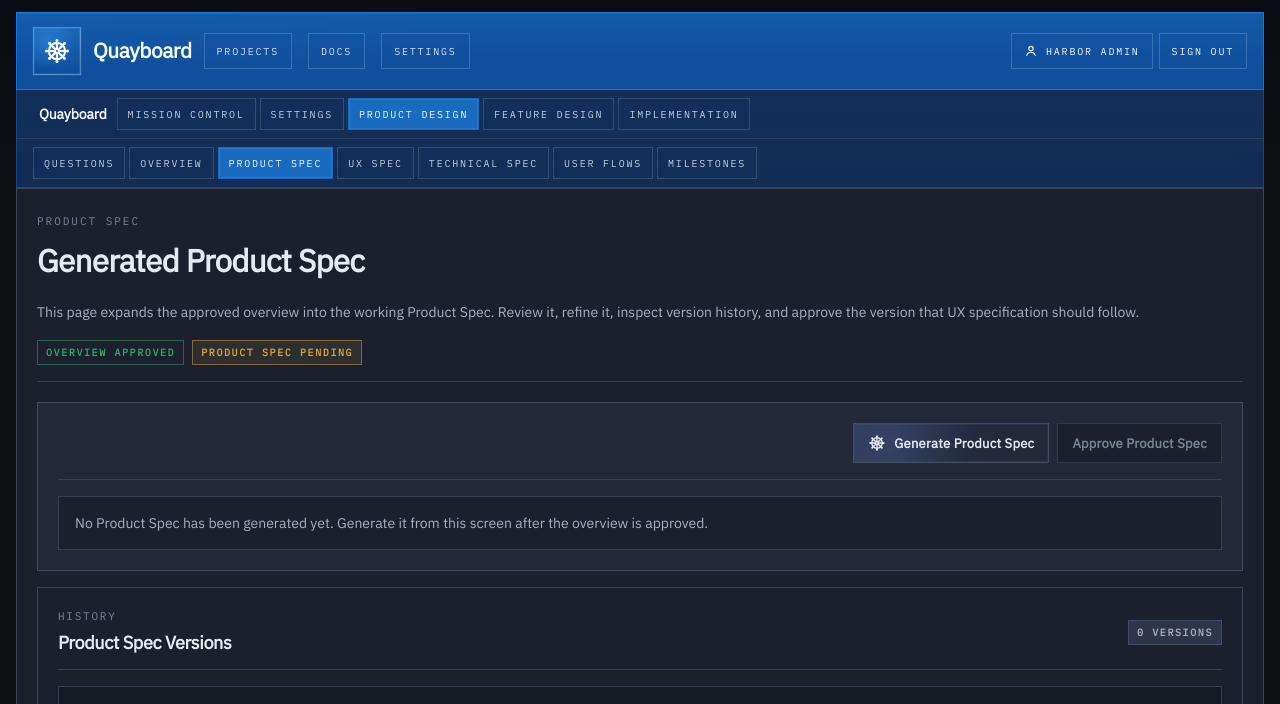
it: workflow pages › refreshes the Product Spec after generation succeeds without a page reload
Click the button "Generate Product Spec": [951, 443] box [853,423,1049,463]
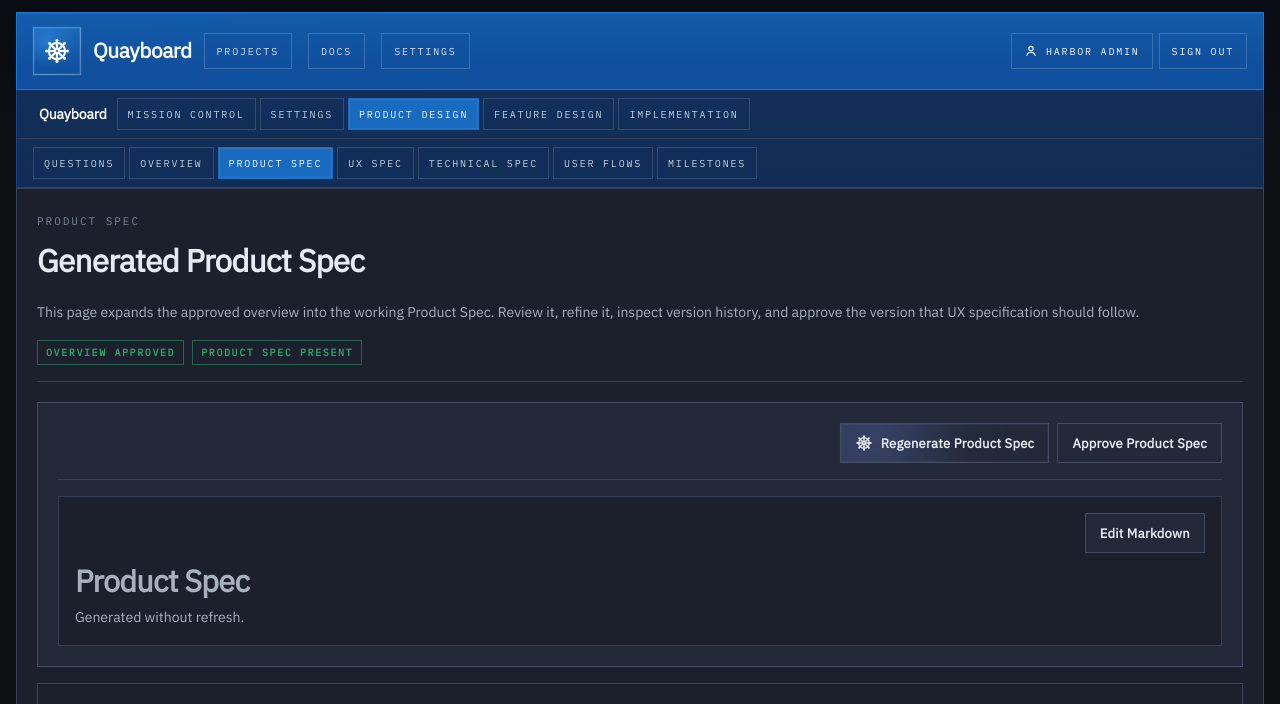
Now the text "Generated without refresh." is shown, box [75,608,244,626]
